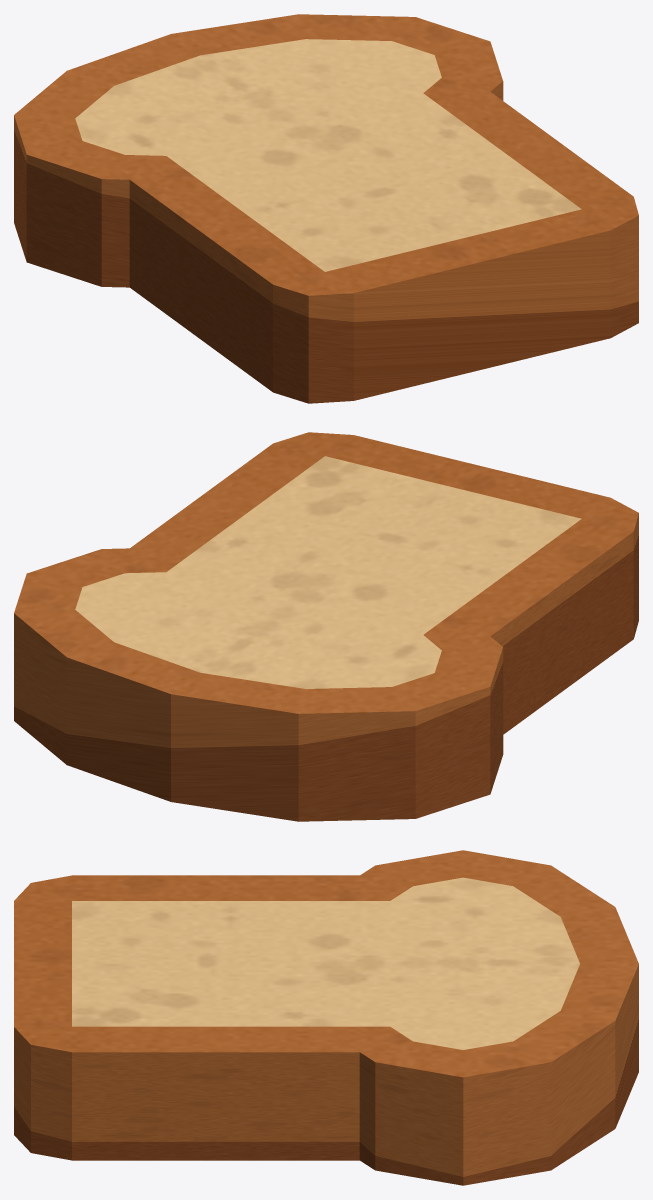
The model's file is bread.glb.
3 views of the same model, one above another, from view 1: azimuth 30°, elevation 25°; view 2: azimuth 150°, elevation 25°; view 3: azimuth 270°, elevation 25° (orthographic).
Parts seen in each view (by area): view 1: Bread; view 2: Bread; view 3: Bread.
Boxes of the visible parts, bbox=[...] form: Bread: bbox=[14, 14, 638, 403]; Bread: bbox=[14, 432, 638, 821]; Bread: bbox=[14, 850, 638, 1185].
Size of the model in its own units: 0.117 by 0.026 by 0.136.
Materials: 1 (1 with a texture image).
